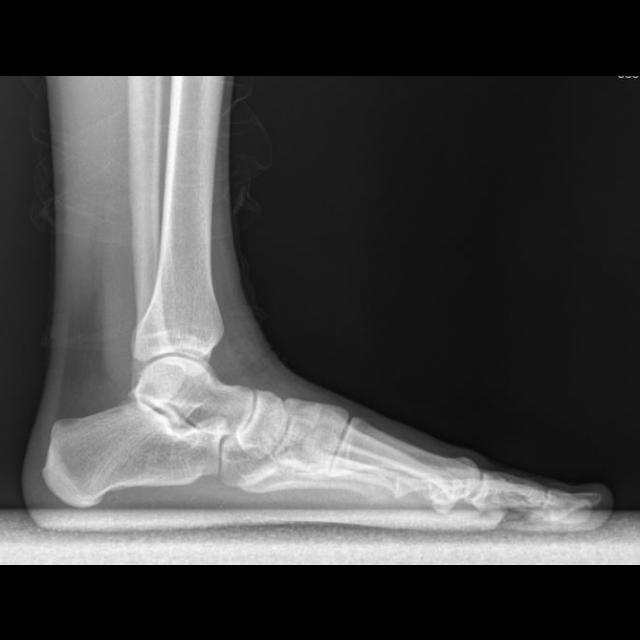a: (44, 400, 223, 508)
b: (236, 390, 288, 457)
c: (325, 414, 480, 502)
